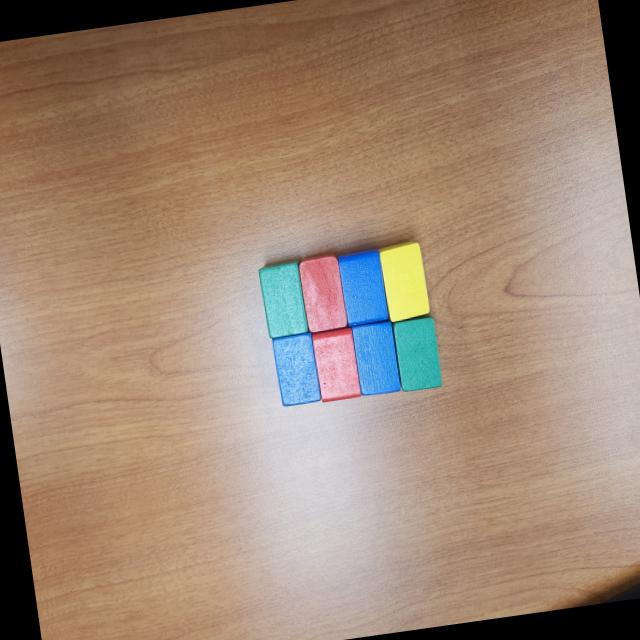blue: (336, 248, 389, 328), (351, 322, 404, 397), (272, 333, 324, 408)
green: (258, 257, 312, 340), (392, 312, 444, 394)
red: (298, 252, 350, 336), (312, 329, 362, 402)
yellow: (377, 238, 431, 324)
